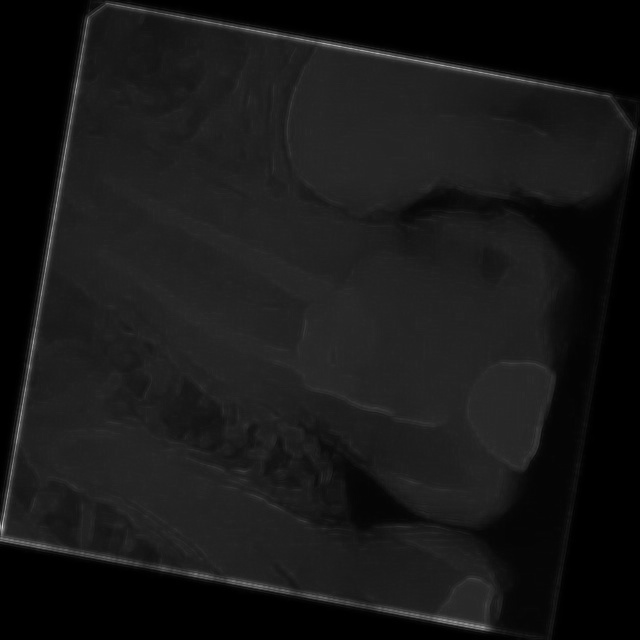Class 1- complete endodontic treatment: (31, 114, 592, 502)
